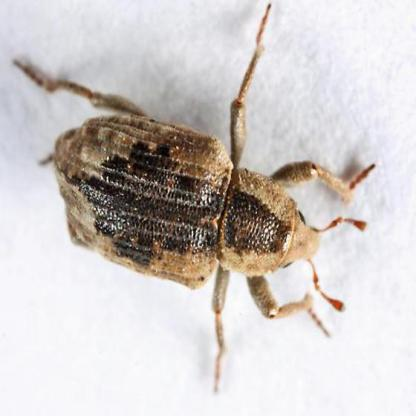rice-bug: (55, 107, 326, 318)
